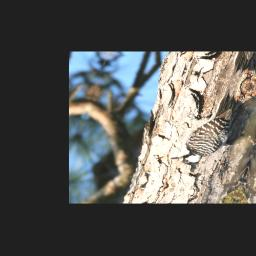Woodpecker: (169, 81, 245, 172)
